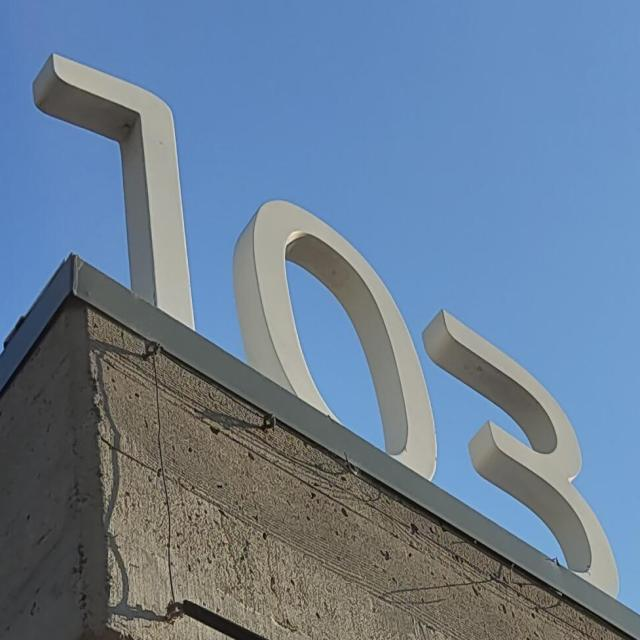character: (248, 192, 440, 496), (440, 303, 624, 603), (48, 48, 200, 344)
